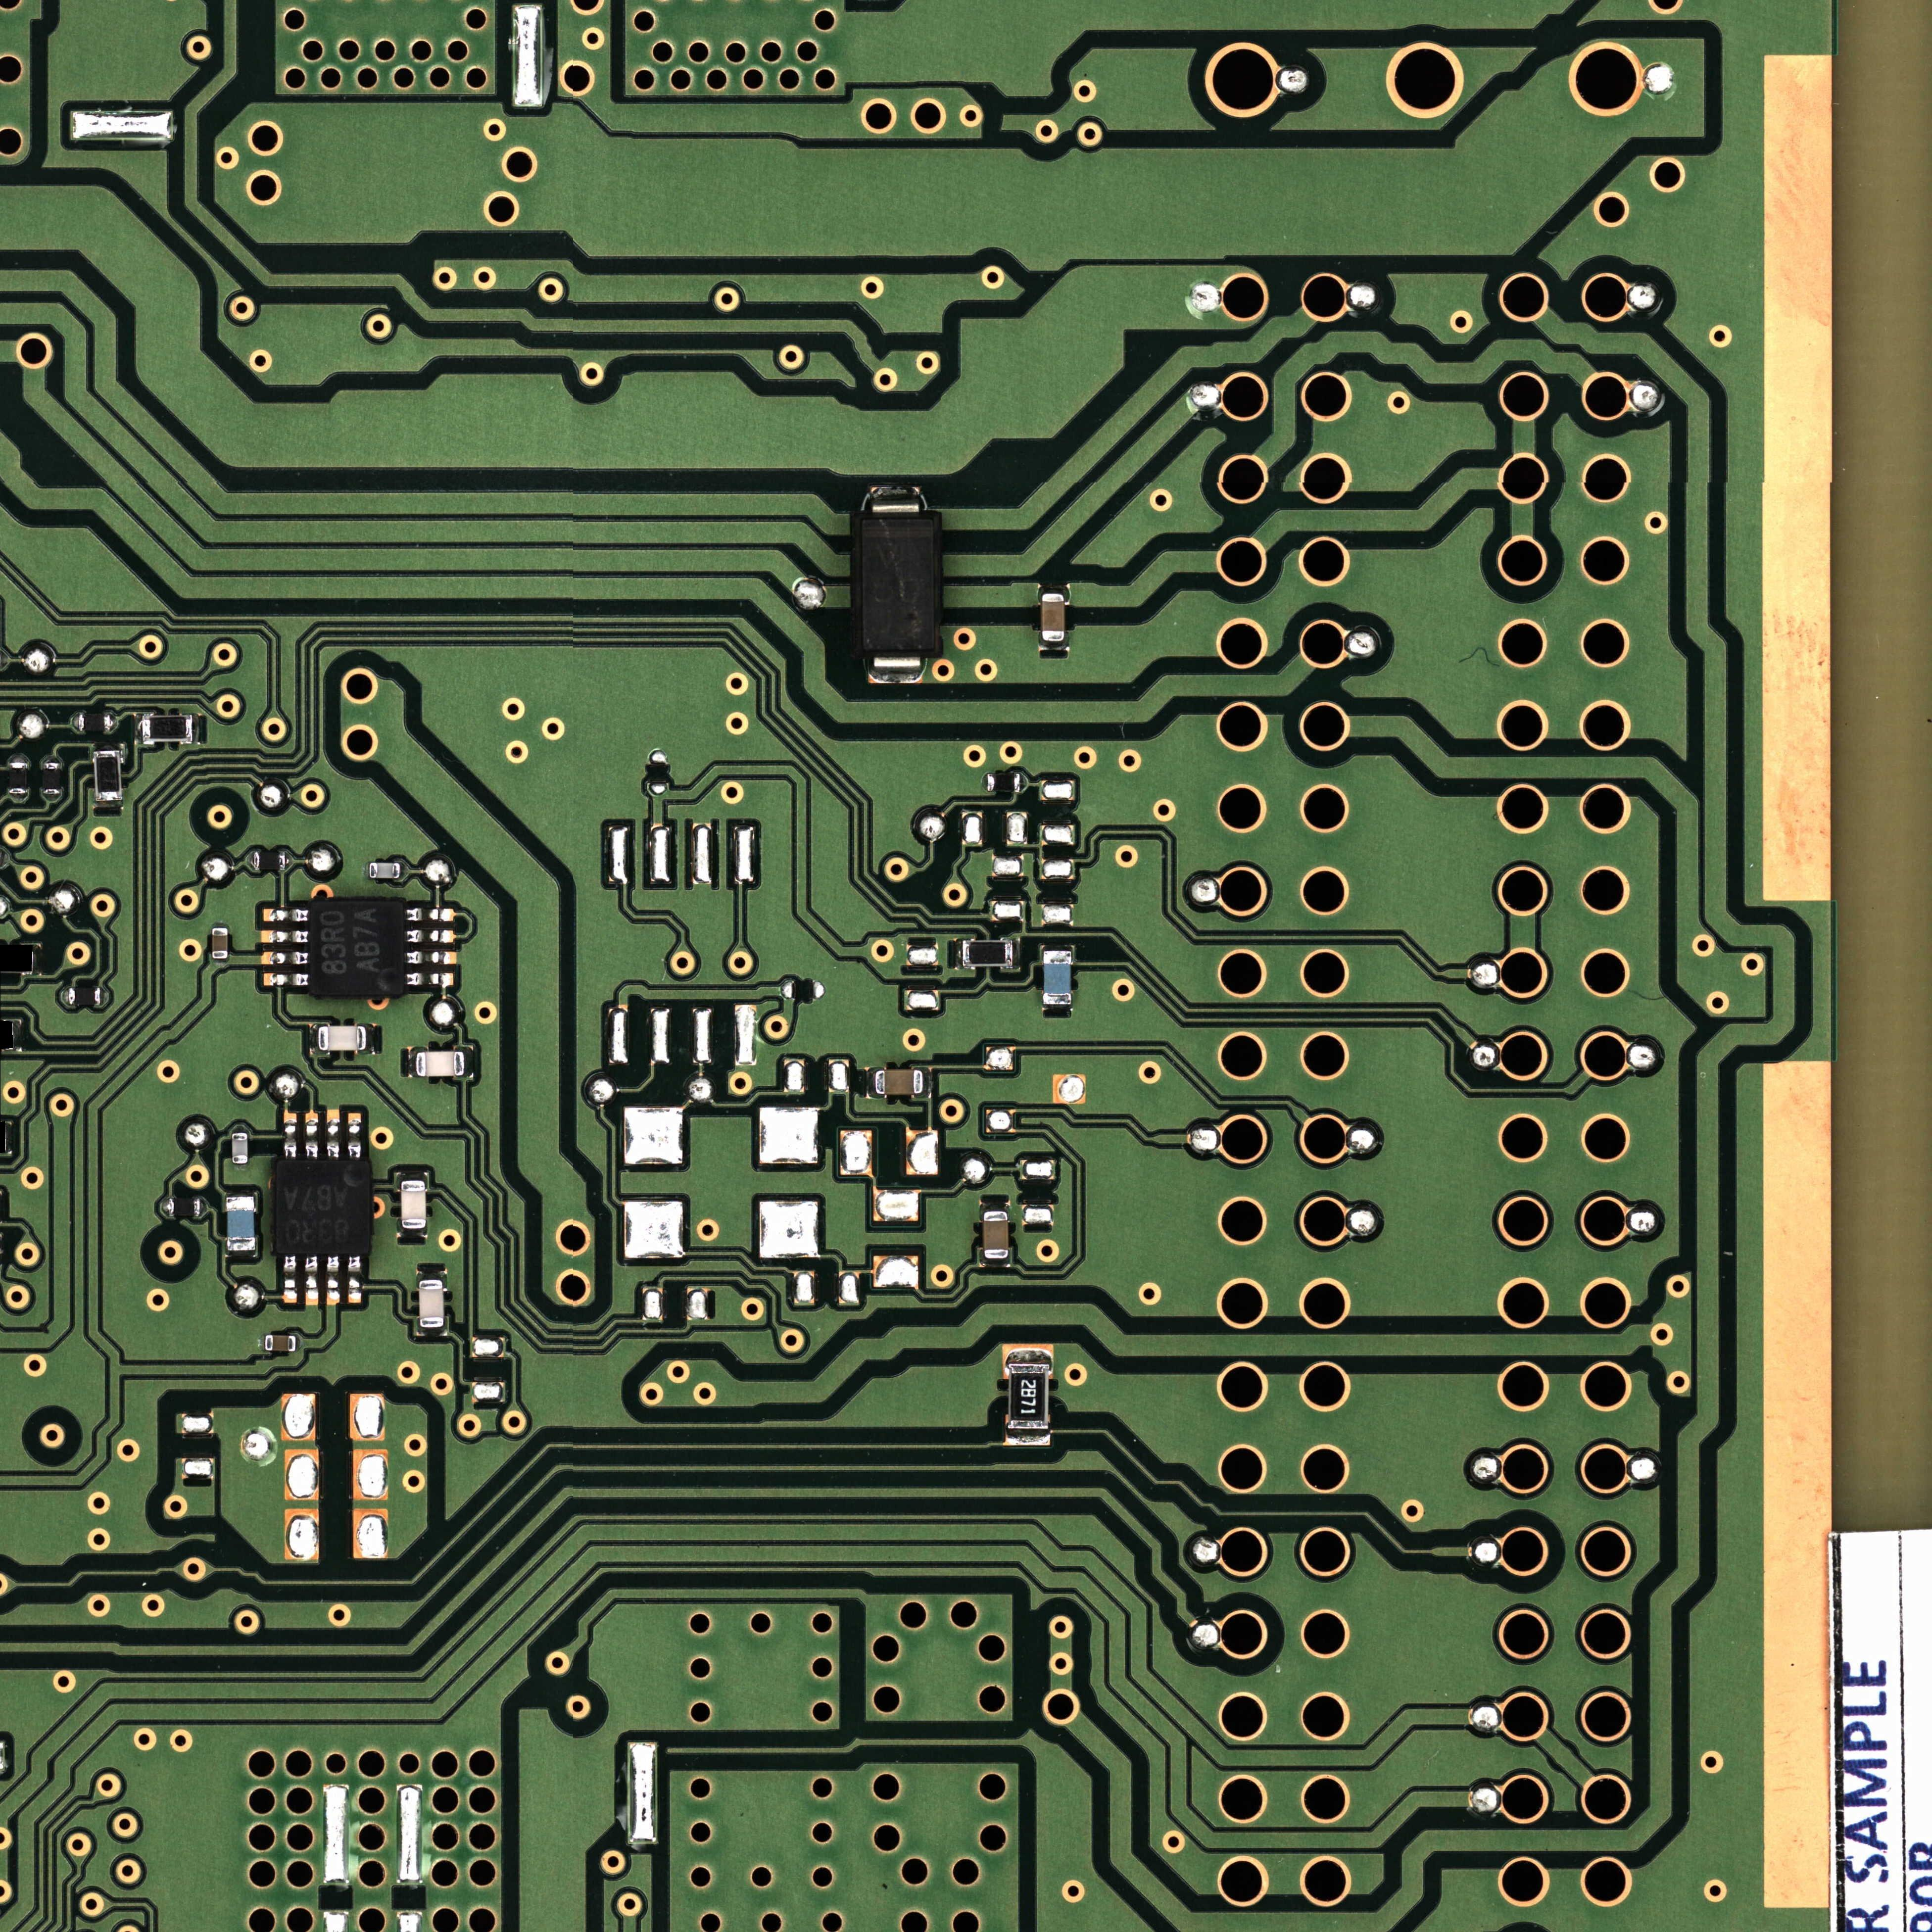Package: (862, 518, 934, 651), (276, 1161, 372, 1254), (310, 901, 403, 994), (1008, 1364, 1049, 1430), (226, 1198, 255, 1251), (1044, 952, 1070, 1005), (143, 715, 193, 741), (96, 750, 120, 801), (962, 941, 1012, 966), (876, 1070, 924, 1095), (416, 1051, 464, 1076), (419, 1279, 444, 1327), (318, 1026, 366, 1051), (402, 1180, 426, 1228), (984, 1212, 1008, 1258), (1042, 594, 1065, 640), (253, 851, 285, 870), (42, 763, 60, 794), (69, 987, 101, 1005), (987, 773, 1019, 791), (168, 1198, 200, 1215), (9, 763, 27, 793), (232, 1132, 248, 1164), (212, 929, 228, 959), (80, 715, 110, 731), (265, 1336, 295, 1352), (370, 863, 400, 878)
Solder: (869, 651, 924, 683), (870, 487, 920, 518), (1003, 1343, 1053, 1364), (262, 971, 310, 987), (1005, 1430, 1051, 1445), (405, 950, 456, 964), (405, 908, 455, 922), (405, 929, 455, 943), (283, 1254, 297, 1304), (304, 1256, 318, 1306), (326, 1256, 340, 1306), (326, 1109, 340, 1159), (262, 950, 310, 964), (262, 929, 310, 943), (283, 1111, 297, 1159), (304, 1111, 318, 1159), (347, 1256, 361, 1304), (264, 908, 310, 922), (405, 973, 455, 985), (349, 1113, 361, 1159), (12, 1019, 23, 1053), (34, 943, 42, 977), (416, 1327, 448, 1336), (924, 1067, 932, 1099), (867, 1067, 876, 1099), (978, 1258, 1010, 1267), (1012, 938, 1021, 970), (366, 1024, 375, 1054), (310, 1024, 318, 1054), (398, 1171, 428, 1180), (225, 1187, 255, 1196), (1039, 584, 1069, 593), (1039, 642, 1069, 651), (980, 1201, 1010, 1210), (94, 800, 122, 809), (92, 741, 120, 750), (134, 715, 143, 743), (418, 1270, 446, 1279), (7, 1122, 14, 1155), (193, 713, 200, 745), (465, 1046, 472, 1077), (396, 1230, 428, 1237), (1042, 945, 1074, 952), (226, 1251, 257, 1258), (409, 1047, 416, 1077), (955, 939, 962, 970), (41, 794, 60, 803), (42, 754, 62, 763), (9, 754, 28, 763), (1042, 1005, 1072, 1010), (212, 959, 230, 968), (60, 987, 69, 1005), (9, 794, 28, 801), (211, 920, 230, 927), (402, 862, 409, 881), (246, 851, 253, 869), (361, 862, 368, 879), (200, 1198, 207, 1215), (258, 1334, 265, 1352), (161, 1198, 168, 1215), (101, 987, 108, 1005), (297, 1334, 304, 1352), (980, 773, 987, 791), (287, 853, 294, 869), (71, 713, 78, 729), (111, 715, 119, 731), (232, 1125, 248, 1132), (232, 1164, 248, 1171), (1021, 773, 1026, 791)
